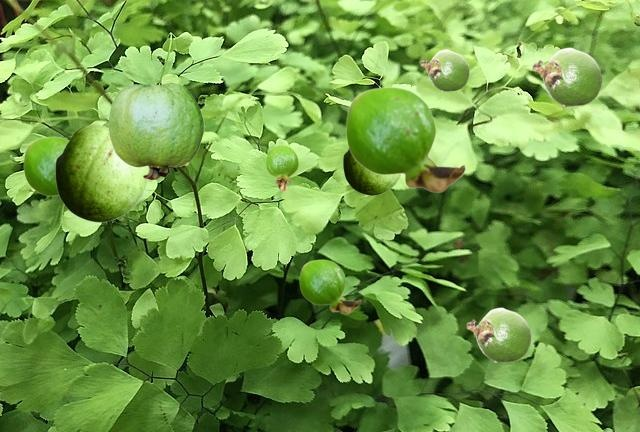guava: (345, 86, 465, 192), (108, 82, 203, 179), (55, 124, 147, 221), (532, 47, 601, 105), (466, 307, 530, 361), (299, 259, 360, 313), (23, 136, 68, 196), (343, 149, 401, 194), (420, 49, 468, 90), (266, 145, 297, 190)
